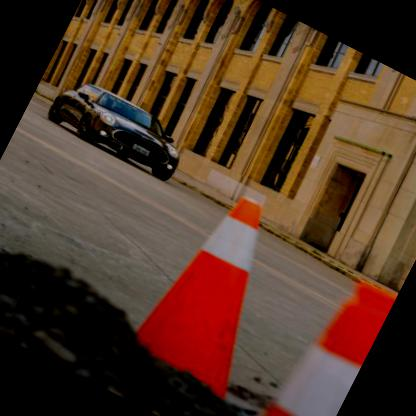cone: (115, 176, 318, 410), (231, 263, 394, 415)
